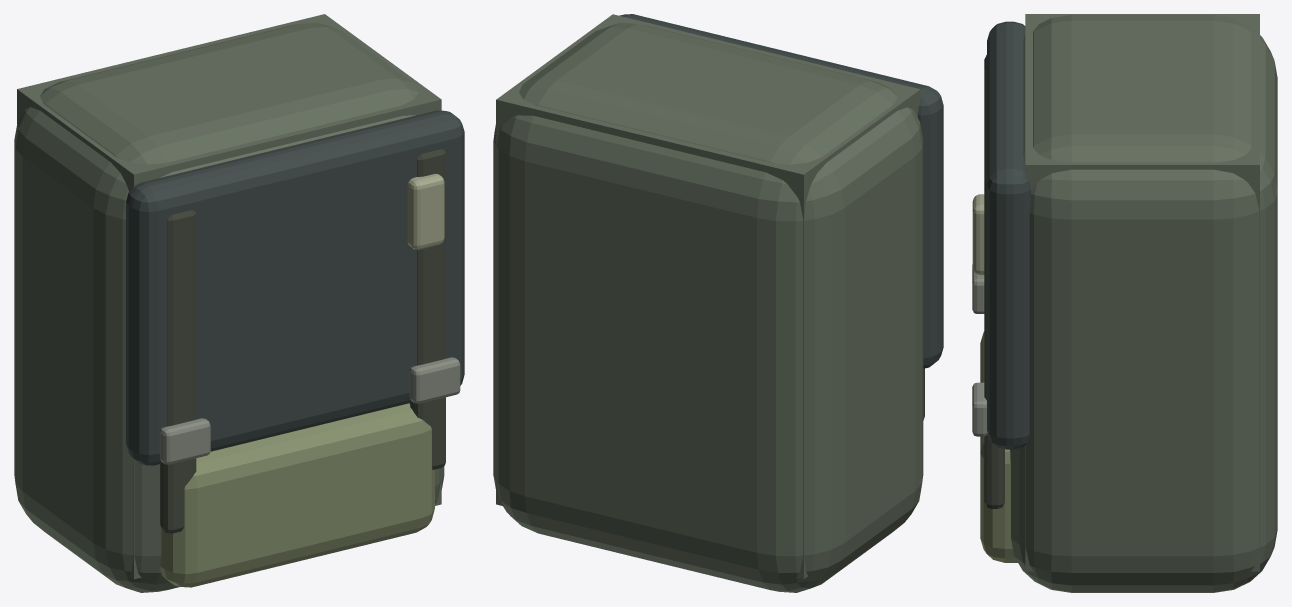
The model's file is ZW_Parachute_Pack.fbx.
3 views of the same model, side by side, from view 1: azimuth 30°, elevation 25°; view 2: azimuth 150°, elevation 25°; view 3: azimuth 270°, elevation 25° (orthographic).
Visible parts, largest first — view 1: Container_LOD0, Flap_LOD0, Pocket_LOD0, SideWebbing-1_LOD0, UTM_Pack, SideWebbing1_LOD0, PullTab_LOD0, Buckle1_LOD0, Buckle-1_LOD0; view 2: Container_LOD0, UTM_Pack, Flap_LOD0; view 3: Container_LOD0, Flap_LOD0, UTM_Pack, Pocket_LOD0, SideWebbing1_LOD0, PullTab_LOD0, Buckle1_LOD0, Buckle-1_LOD0.
Part boxes in pixels (box(x1,y1,x2,y2)): Container_LOD0: box(14, 22, 444, 592); Flap_LOD0: box(126, 110, 464, 465); Pocket_LOD0: box(160, 403, 434, 587); SideWebbing-1_LOD0: box(160, 210, 196, 533); UTM_Pack: box(17, 14, 441, 579); SideWebbing1_LOD0: box(409, 149, 445, 469); PullTab_LOD0: box(407, 173, 444, 249); Buckle1_LOD0: box(409, 357, 460, 403); Buckle-1_LOD0: box(160, 418, 210, 464); Container_LOD0: box(493, 23, 923, 592); UTM_Pack: box(496, 14, 920, 579); Flap_LOD0: box(619, 14, 943, 368); Container_LOD0: box(1010, 15, 1277, 592); Flap_LOD0: box(987, 21, 1030, 449); UTM_Pack: box(1025, 14, 1259, 571); Pocket_LOD0: box(980, 331, 1017, 562); SideWebbing1_LOD0: box(984, 177, 1004, 508); PullTab_LOD0: box(972, 194, 984, 274); Buckle1_LOD0: box(972, 382, 987, 436); Buckle-1_LOD0: box(972, 264, 984, 313).
Size of what is drawn, in the model's own units: 39 by 49 by 29.95.
